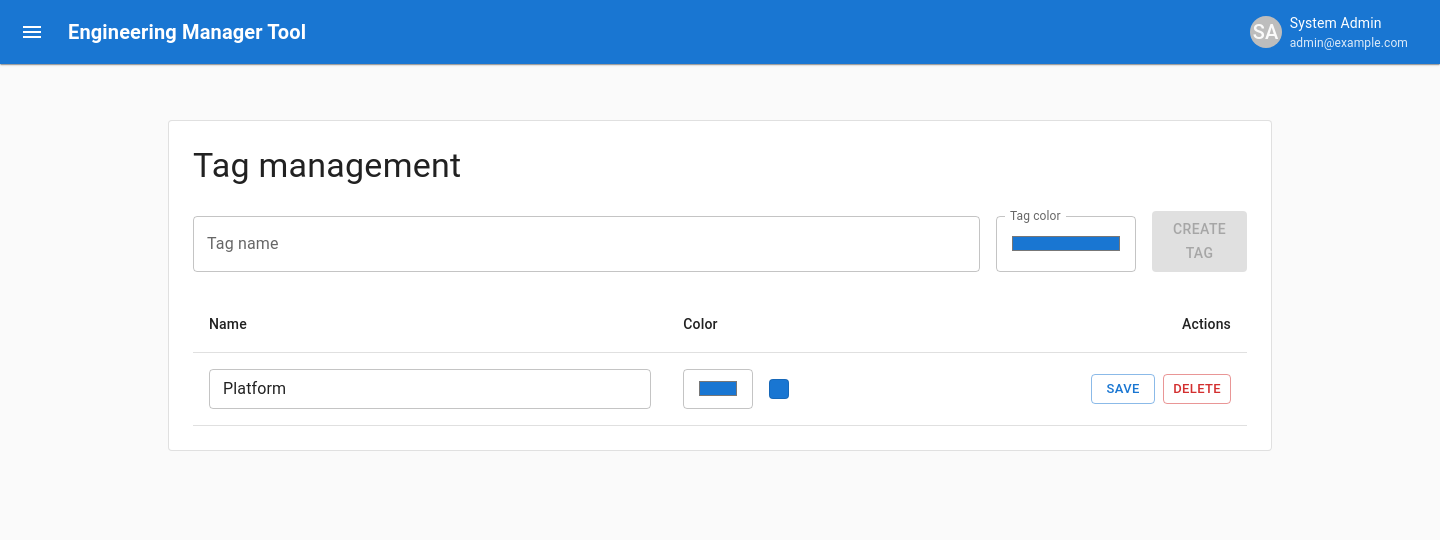
US3 update error handling › shows API error messages when update fails
Check: the field showing "Platform" is shown, box [209,369,651,409]
Step 1. Click the button "Save" → (1123, 389), box [1091,374,1155,404]
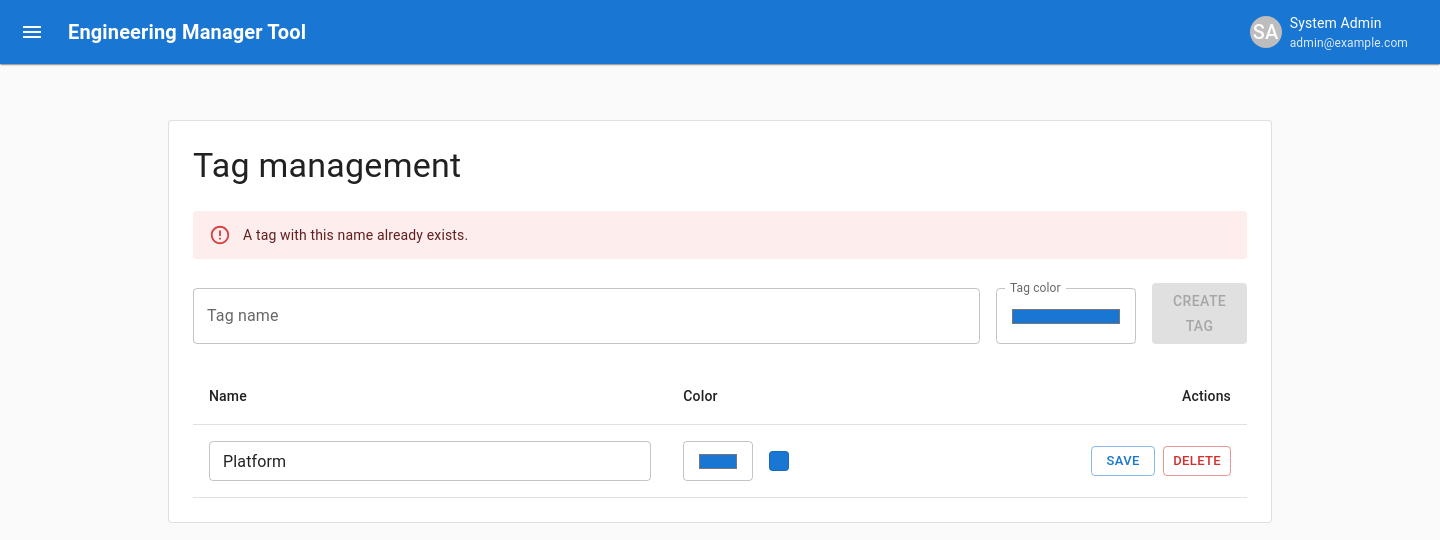
Check: the text "A tag with this name already exists." is shown, box [243,227,468,243]
